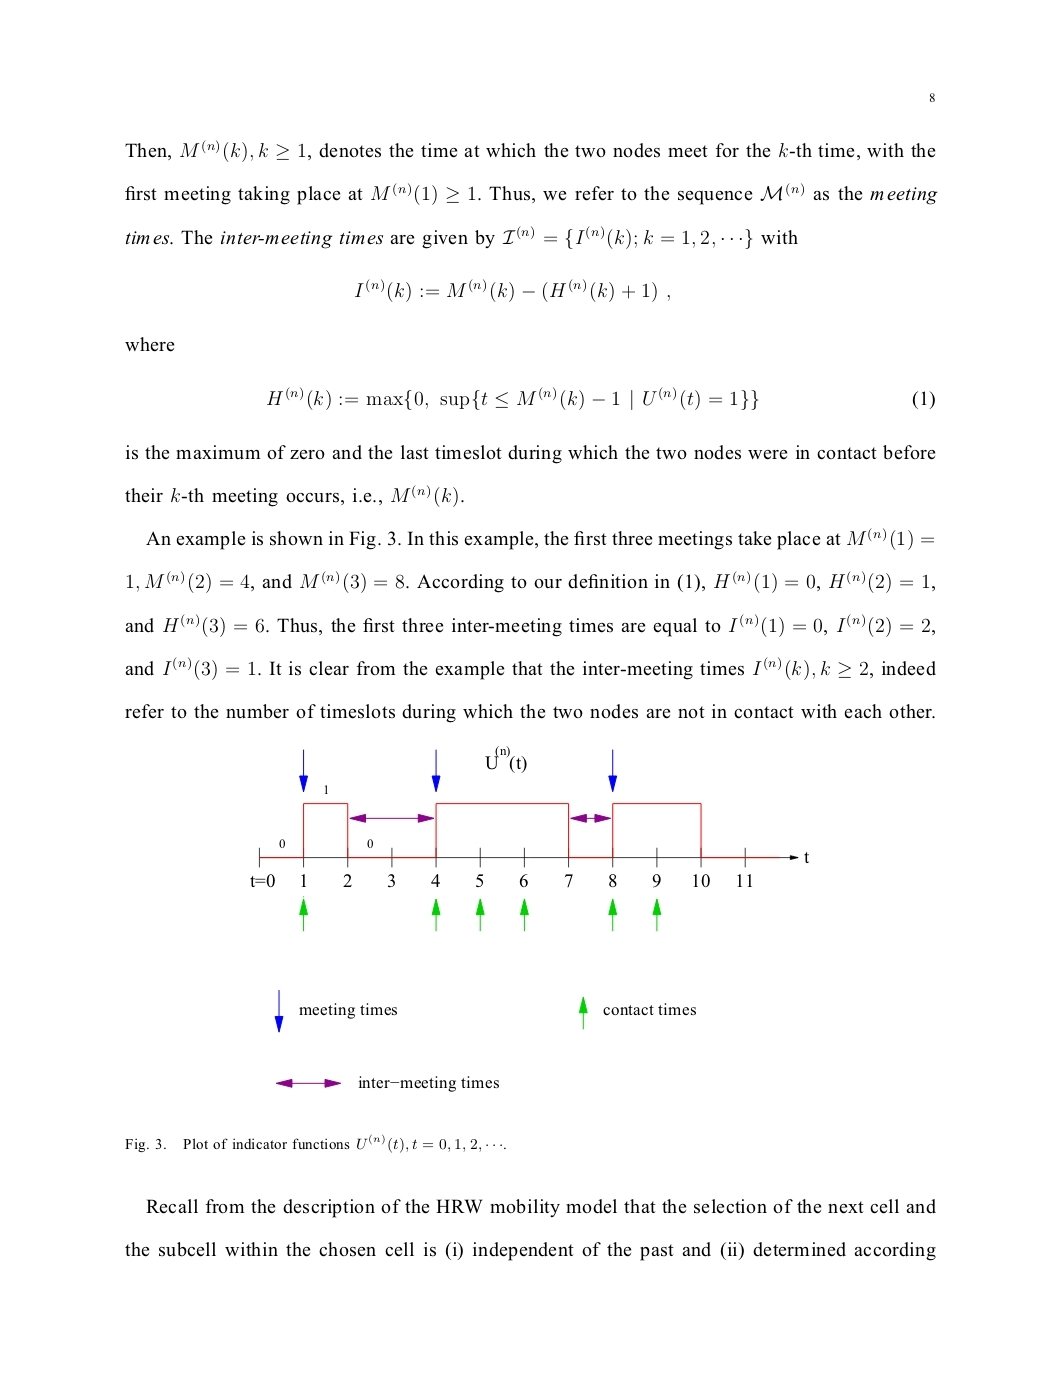figure: (250, 746, 809, 1091)
formula: (267, 386, 934, 410), (354, 277, 669, 302)
